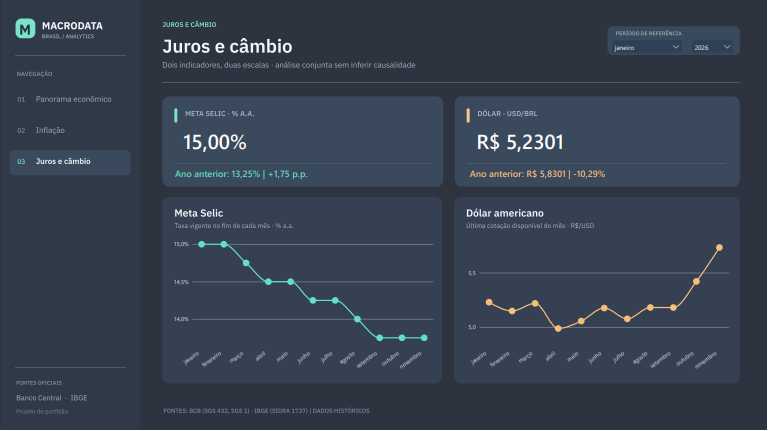

What the dashboard file says about the page in this screenshot:
{"tool":"powerbi","page":{"name":"Juros e Câmbio","canvas":[1920,1080],"ordinal":2},"visuals":[{"type":"actionButton","box":[29.8,223.2,295.5,53.1],"z":0},{"type":"actionButton","box":[29.8,301.9,295.5,53.1],"z":1000},{"type":"slicer","fields":{"Values":["Dim_Calendario.MesNome"]},"box":[1526.7,97.8,183.3,50],"z":2000},{"type":"slicer","fields":{"Values":["Dim_Calendario.Ano"]},"box":[1726.7,97.8,112.2,50],"z":3000},{"type":"cardVisual","fields":{"Data":["Medidas.Meta Selic (%)"]},"box":[442.2,306.1,625,95.7],"z":3001},{"type":"cardVisual","fields":{"Data":["Medidas.Card Comparativo Selic Anual"]},"box":[420.9,386.9,512.4,95.7],"z":3002},{"type":"cardVisual","fields":{"Data":["Medidas.Cotação Dólar (R$)"]},"box":[1175.7,306.1,625,95.7],"z":3003},{"type":"cardVisual","fields":{"Data":["Medidas.Card Comparativo Dólar Anual"]},"box":[1158.7,386.9,512.4,95.7],"z":3004},{"type":"lineChart","fields":{"Category":["Dim_Calendario.MesNome"],"Y":["Medidas.Meta Selic (%)"]},"box":[416.7,580.4,682.4,380.6],"z":3005},{"type":"lineChart","fields":{"Category":["Dim_Calendario.MesNome"],"Y":["Medidas.Cotação Dólar (R$)"]},"box":[1145.9,580.4,693.1,380.6],"z":3006}]}

Visuals, with their boxes in screenshot pixels (x1, y1, x2, y2), scaled from the page's 1920x1080 canvas onto the 768x431 screenshot:
actionButton: region(12, 89, 130, 110)
actionButton: region(12, 120, 130, 142)
slicer - Dim_Calendario.MesNome: region(611, 39, 684, 59)
slicer - Dim_Calendario.Ano: region(691, 39, 736, 59)
cardVisual - Medidas.Meta Selic (%): region(177, 122, 427, 160)
cardVisual - Medidas.Card Comparativo Selic Anual: region(168, 154, 373, 193)
cardVisual - Medidas.Cotação Dólar (R$): region(470, 122, 720, 160)
cardVisual - Medidas.Card Comparativo Dólar Anual: region(463, 154, 668, 193)
lineChart - Dim_Calendario.MesNome x Medidas.Meta Selic (%): region(167, 232, 440, 384)
lineChart - Dim_Calendario.MesNome x Medidas.Cotação Dólar (R$): region(458, 232, 736, 384)
